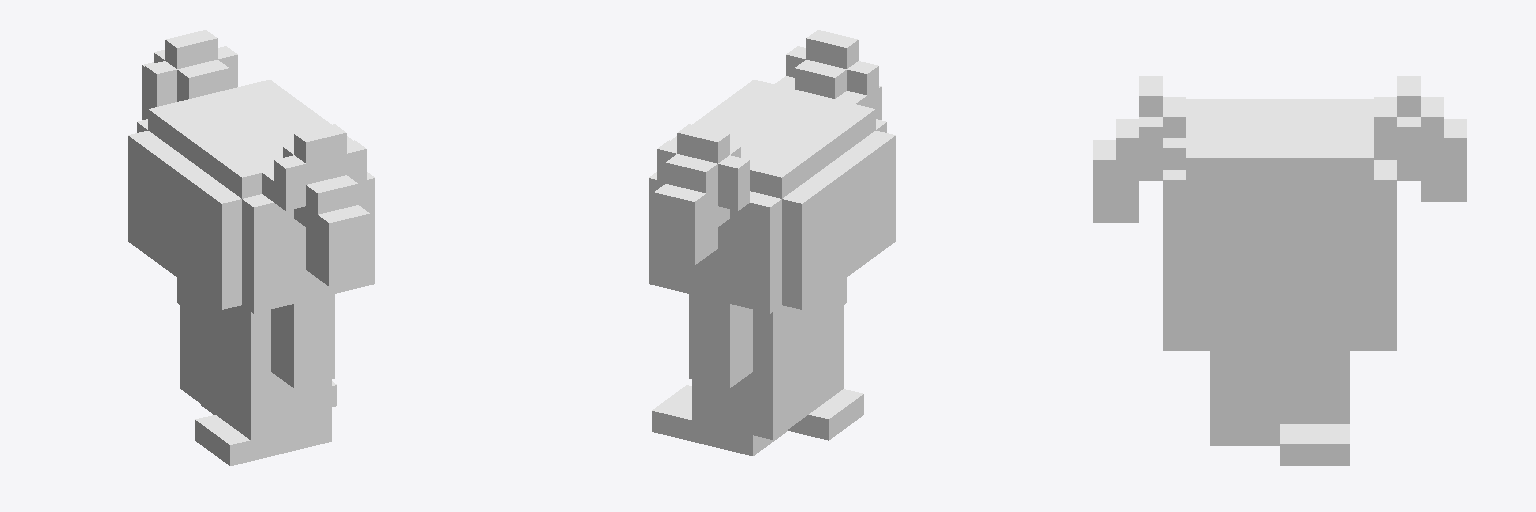
The model's file is Girl2.obj.
3 renders of one model, left to right at view 1: azimuth 30°, elevation 25°; view 2: azimuth 150°, elevation 25°; view 3: azimuth 270°, elevation 25°, orthographic.
Size of the model in its own units: 8 by 16 by 16.